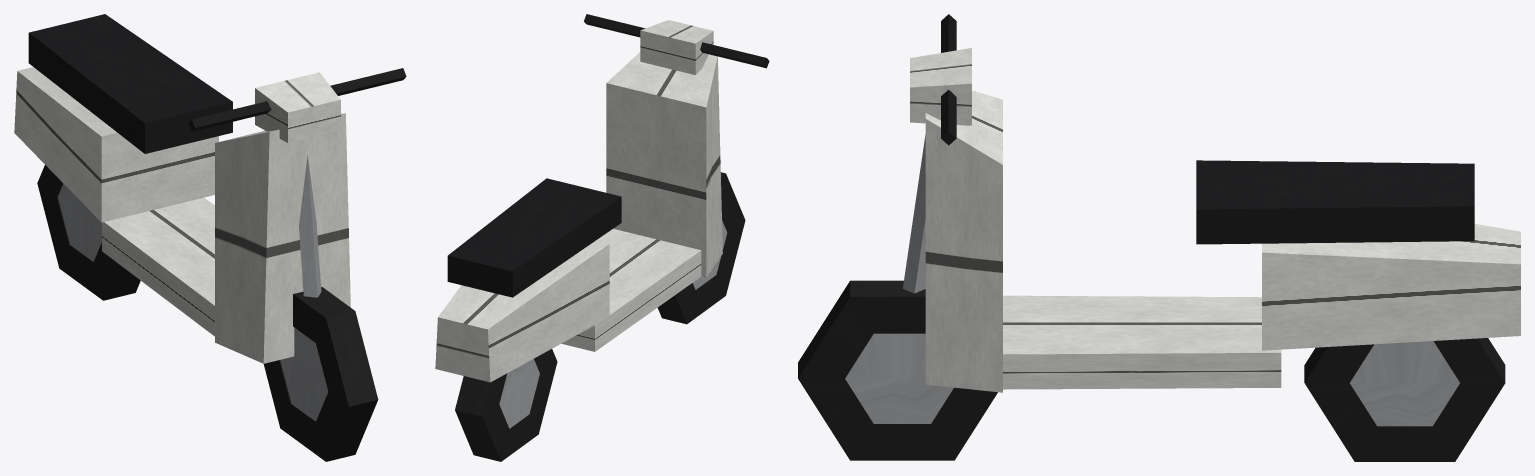
The model's file is SM_Morin_Scooter_LOD2.fbx.
The picture shows the model from 3 angles, left to right: view 1: azimuth 30°, elevation 25°; view 2: azimuth 150°, elevation 25°; view 3: azimuth 270°, elevation 25°; orthographic projection. The views are drawn at different scales.
Parts seen in each view (by area): view 1: SM_Morin_Scooter_LOD2; view 2: SM_Morin_Scooter_LOD2; view 3: SM_Morin_Scooter_LOD2.
Part boxes in pixels (x1,y1,x2,y2): SM_Morin_Scooter_LOD2: (14,14,406,461); SM_Morin_Scooter_LOD2: (435,14,769,461); SM_Morin_Scooter_LOD2: (798,14,1520,461).
Bounding box in the file's own units: 72 × 187 × 111.
1 material, 1 textured.
